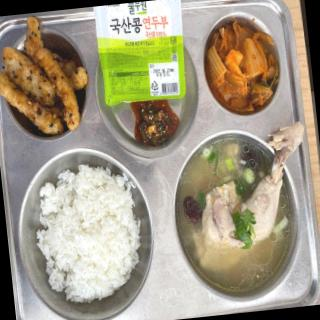Nasi: (26, 158, 153, 302)
